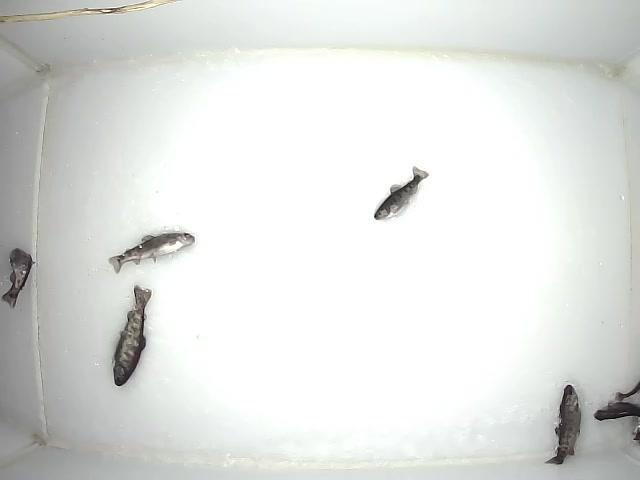fish: (111, 282, 153, 388), (107, 229, 196, 274), (542, 383, 583, 465), (371, 164, 429, 221), (1, 245, 36, 309)
